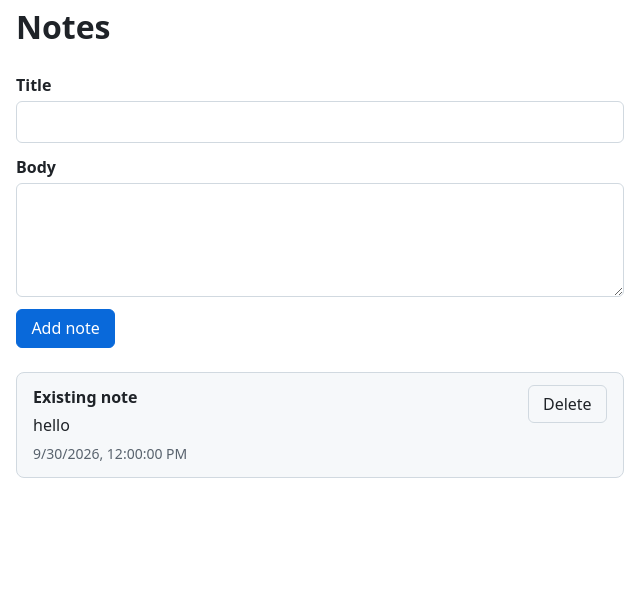
Test: App › creates a note
This screenshot has width=641, height=613.
Expected: the heading "Existing note" is shown, x1=33 y1=386 x2=138 y2=408
In the field labelled "Title": (320, 122) x1=16 y1=101 x2=624 y2=143, type "Buy milk"
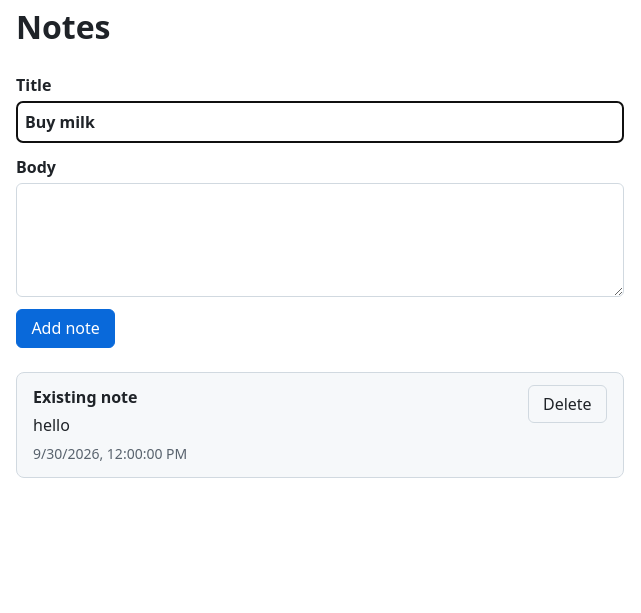
In the text box labelled "Body": (320, 240) x1=16 y1=183 x2=624 y2=297, type "2 litres"
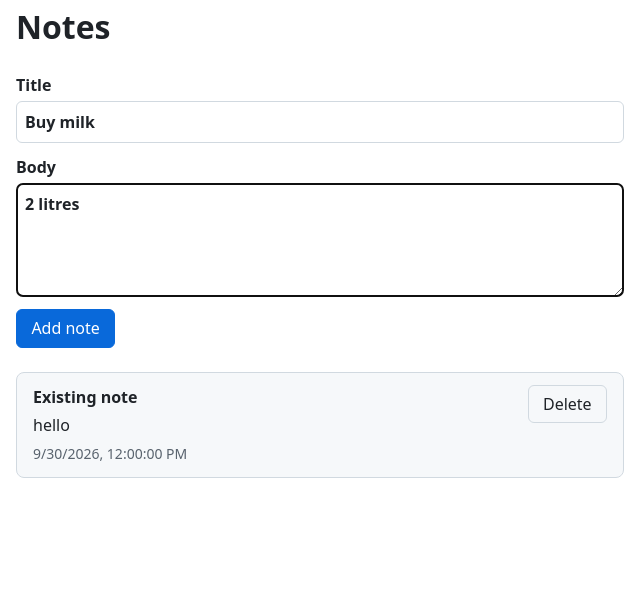
Click the button "Add note": (66, 328) x1=16 y1=309 x2=115 y2=348
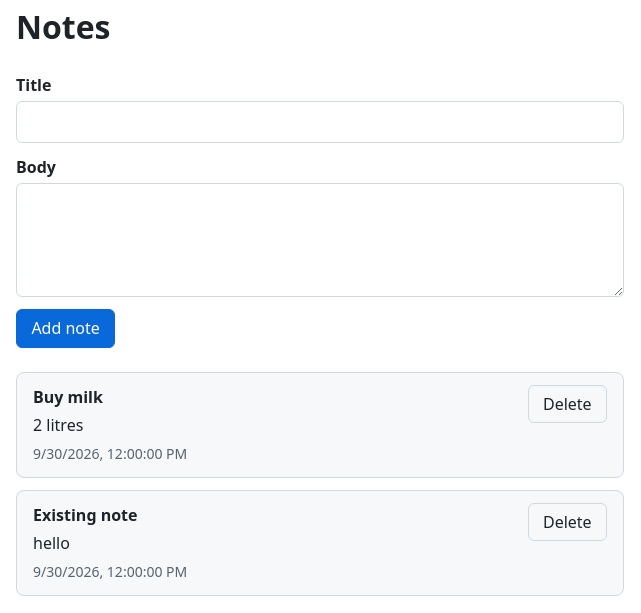
Expected: the heading "Buy milk" is shown, x1=33 y1=386 x2=103 y2=408
Expected: the field labelled "Title" is empty, x1=16 y1=101 x2=624 y2=143
